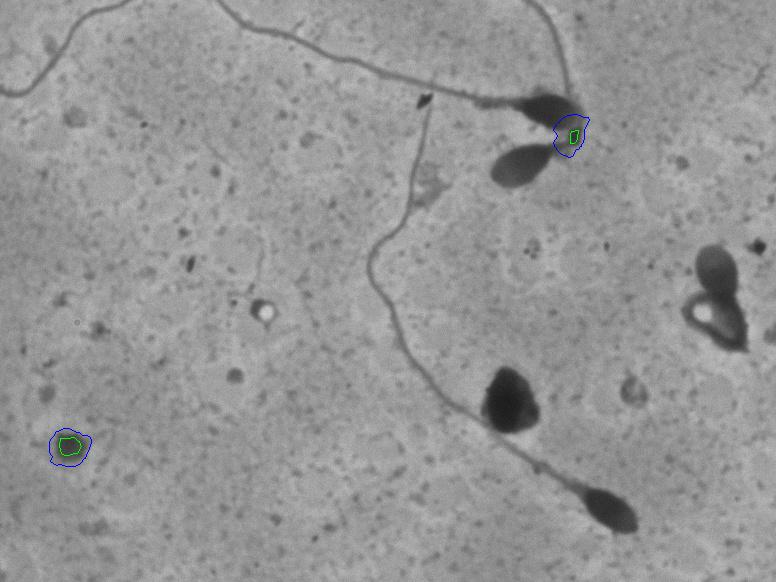Abnormal: (676, 230, 762, 371)
Normal: (331, 95, 666, 565)
